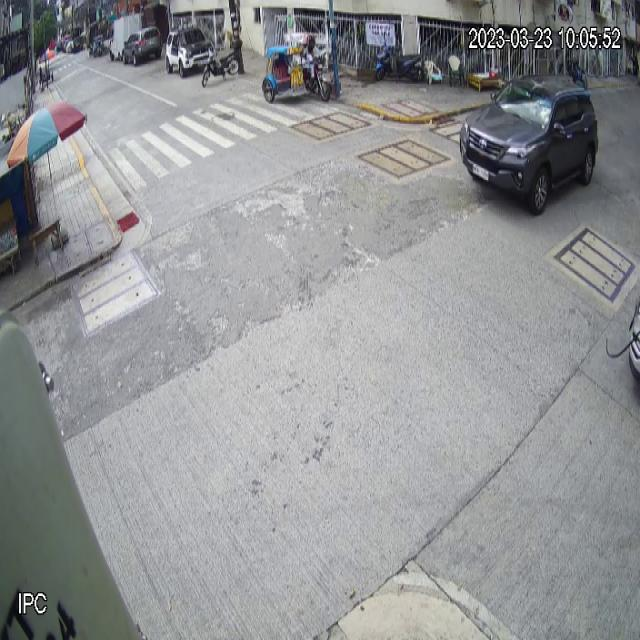Car: (459, 71, 602, 217)
Tricycle: (261, 32, 332, 103)
